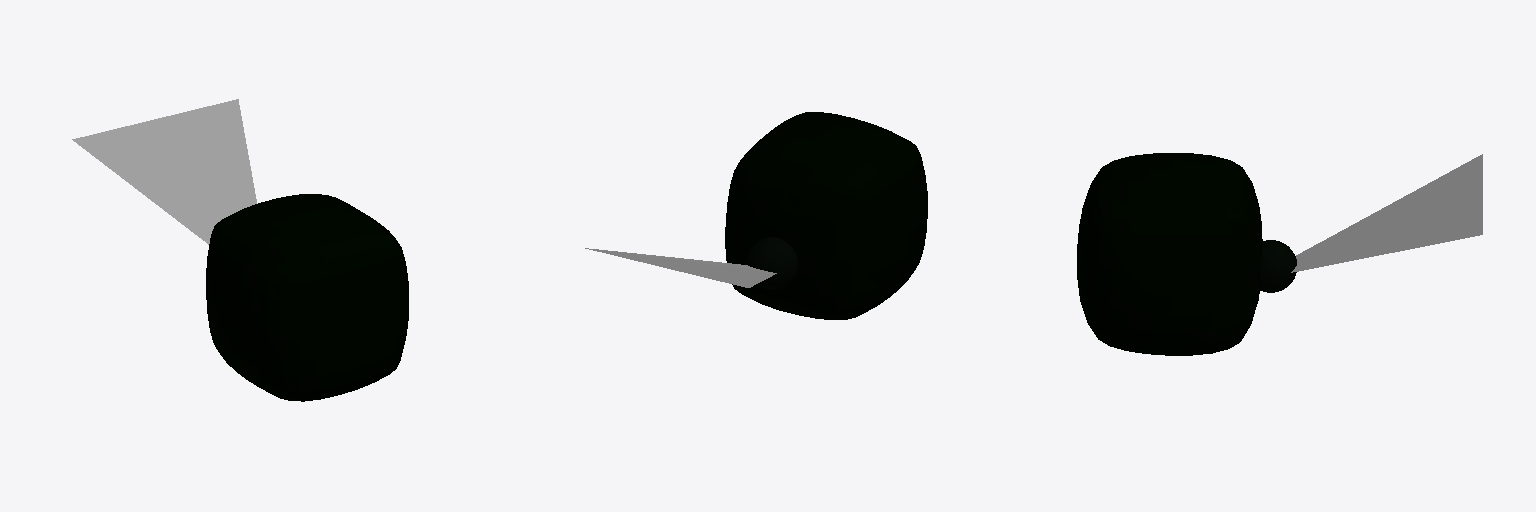
Rendered from scanner.obj.
The picture shows the model from 3 angles: view 1: azimuth 30°, elevation 25°; view 2: azimuth 150°, elevation 25°; view 3: azimuth 270°, elevation 25°; orthographic projection.
Visible parts, largest first — view 1: camara_cuerpo_Cube, camara_scanner_Plane; view 2: camara_cuerpo_Cube, camara_scanner_Plane, camara_rotater_Sphere; view 3: camara_cuerpo_Cube, camara_scanner_Plane, camara_rotater_Sphere.
Boxes of the visible parts, <box> form: camara_cuerpo_Cube: <box>206,194,408,401</box>; camara_scanner_Plane: <box>72,99,256,244</box>; camara_cuerpo_Cube: <box>725,112,927,319</box>; camara_scanner_Plane: <box>585,248,776,287</box>; camara_rotater_Sphere: <box>746,237,797,289</box>; camara_cuerpo_Cube: <box>1077,153,1262,355</box>; camara_scanner_Plane: <box>1291,154,1482,272</box>; camara_rotater_Sphere: <box>1260,240,1296,292</box>.
Size of the model in its own units: 2.02 by 1.95 by 4.23.